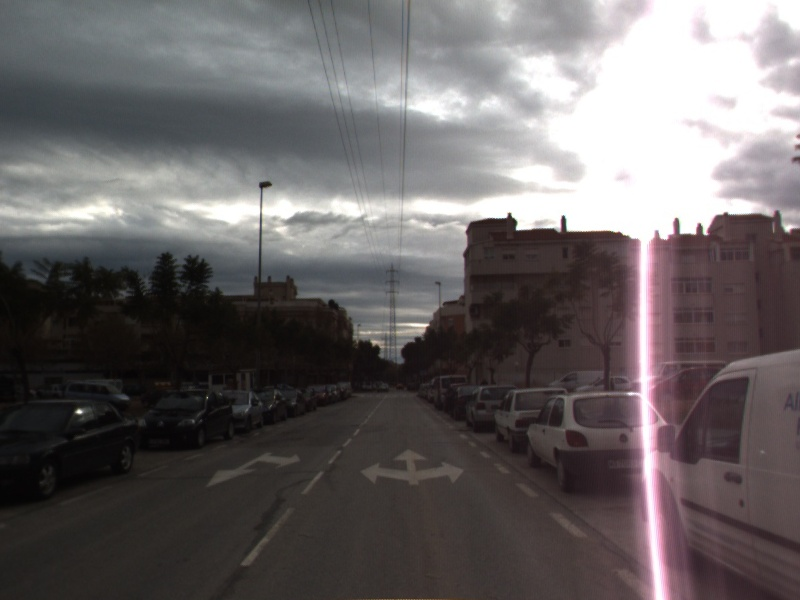STRAIGHT_LEFT_RIGHT: (358, 447, 466, 487)
